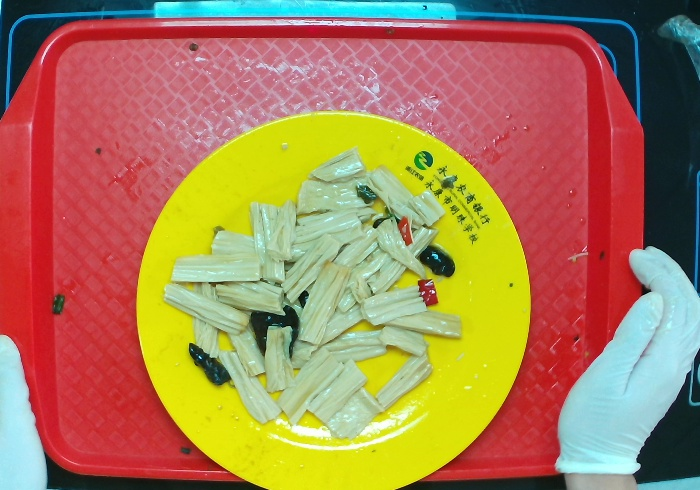YKMZ-Huang_Se_Mian_Pan: (135, 109, 532, 490)
